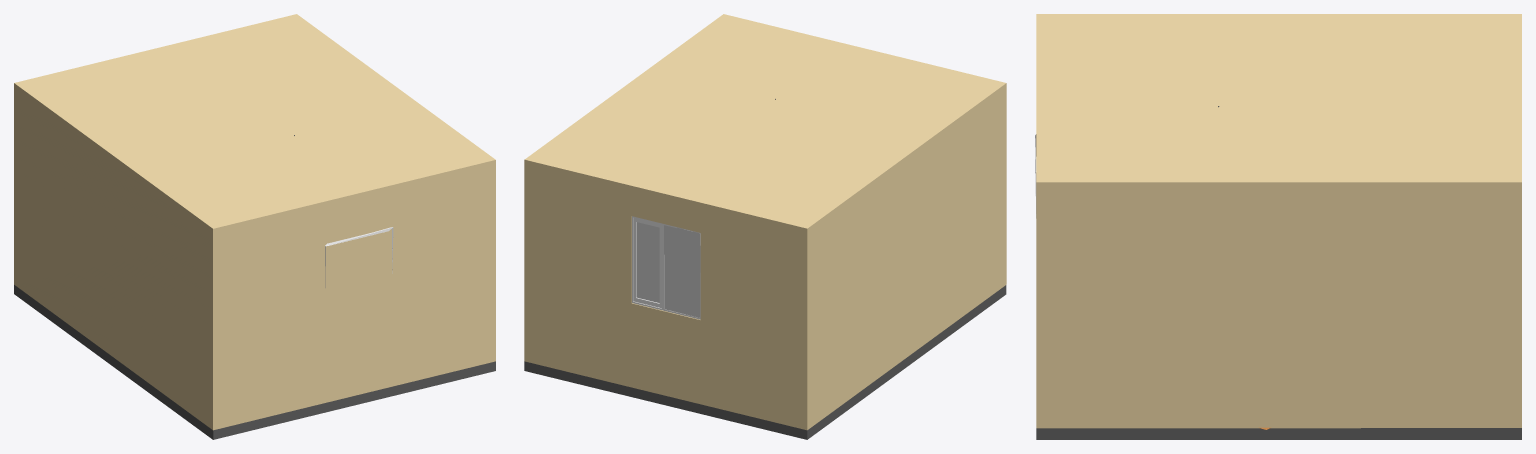
The model's file is FloorPlan19_physics.fbx.
3 views of the same model, side by side, from view 1: azimuth 30°, elevation 25°; view 2: azimuth 150°, elevation 25°; view 3: azimuth 270°, elevation 25° (orthographic). The views are drawn at different scales.
Parts seen in each view (by area): view 1: Room.036, Ceiling, Floor1; view 2: Room.036, Ceiling, Floor1, WindowPane, WindowFrame; view 3: Room.036, Ceiling, Floor1.
Part boxes in pixels (x1,y1,x2,y2): Room.036: (14, 94, 495, 430); Ceiling: (14, 14, 495, 239); Floor1: (14, 285, 495, 439); Room.036: (524, 94, 1006, 430); Ceiling: (524, 14, 1006, 239); Floor1: (524, 285, 1006, 439); WindowPane: (636, 222, 700, 317); WindowFrame: (632, 216, 700, 319); Room.036: (1036, 196, 1521, 428); Ceiling: (1036, 14, 1521, 196); Floor1: (1036, 428, 1521, 439).
Size of the model in its own units: 378 by 267 by 457.
